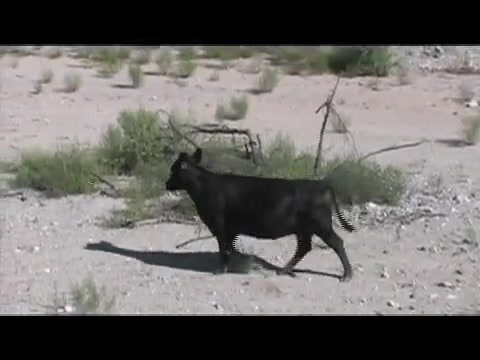cow: (164, 150, 356, 282)
